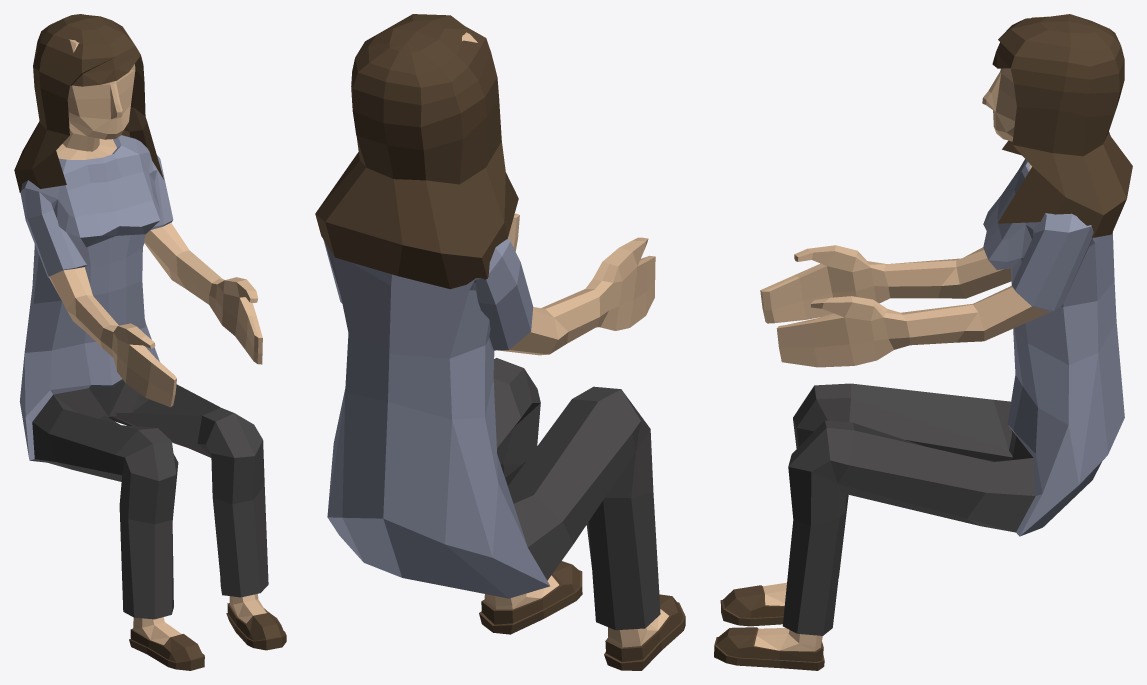
File: Female_Crowd_SittingRelaxed.glb
3 renders of one model, left to right at view 1: azimuth 30°, elevation 25°; view 2: azimuth 150°, elevation 25°; view 3: azimuth 270°, elevation 25°, orthographic. The views are drawn at different scales.
Parts seen in each view (by area): view 1: Female_Crowd_SittingRelaxed; view 2: Female_Crowd_SittingRelaxed; view 3: Female_Crowd_SittingRelaxed.
Part boxes in pixels (x1,y1,x2,y2): Female_Crowd_SittingRelaxed: (14, 14, 286, 670); Female_Crowd_SittingRelaxed: (315, 14, 685, 670); Female_Crowd_SittingRelaxed: (714, 14, 1132, 670).
Bounding box in the file's own units: 0.393 × 1.29 × 0.7928.
